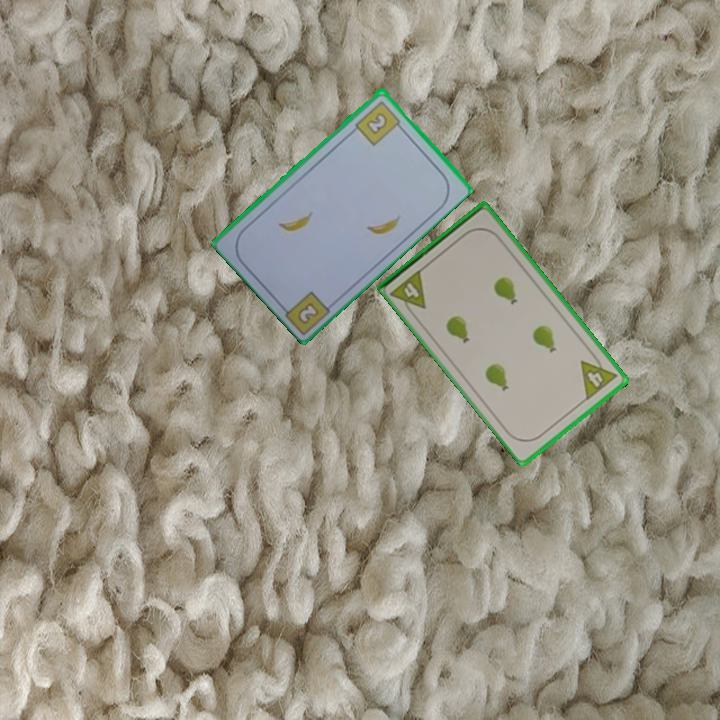2b: (352, 97, 406, 148), (294, 298, 322, 327)
4p: (577, 349, 620, 403), (387, 265, 429, 319)
